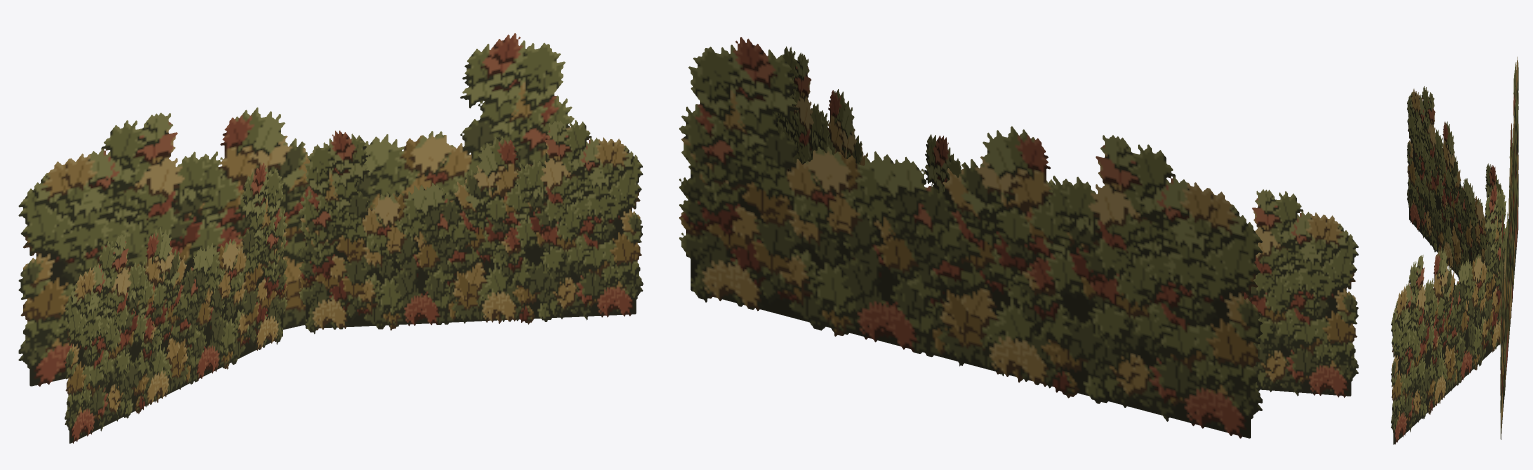
File: SM_VG20_FarBushSilhouette.fbx
3 renders of one model, left to right at view 1: azimuth 30°, elevation 25°; view 2: azimuth 150°, elevation 25°; view 3: azimuth 270°, elevation 25°, orthographic. The views are drawn at different scales.
Visible parts, largest first — view 1: VG20_Silhouette; view 2: VG20_Silhouette; view 3: VG20_Silhouette.
Boxes of the visible parts, bbox=[...] form: VG20_Silhouette: bbox=[18, 33, 643, 443]; VG20_Silhouette: bbox=[679, 37, 1358, 438]; VG20_Silhouette: bbox=[1391, 57, 1518, 444].
Size of the model in its own units: 4.14 by 1.8 by 0.9686.
